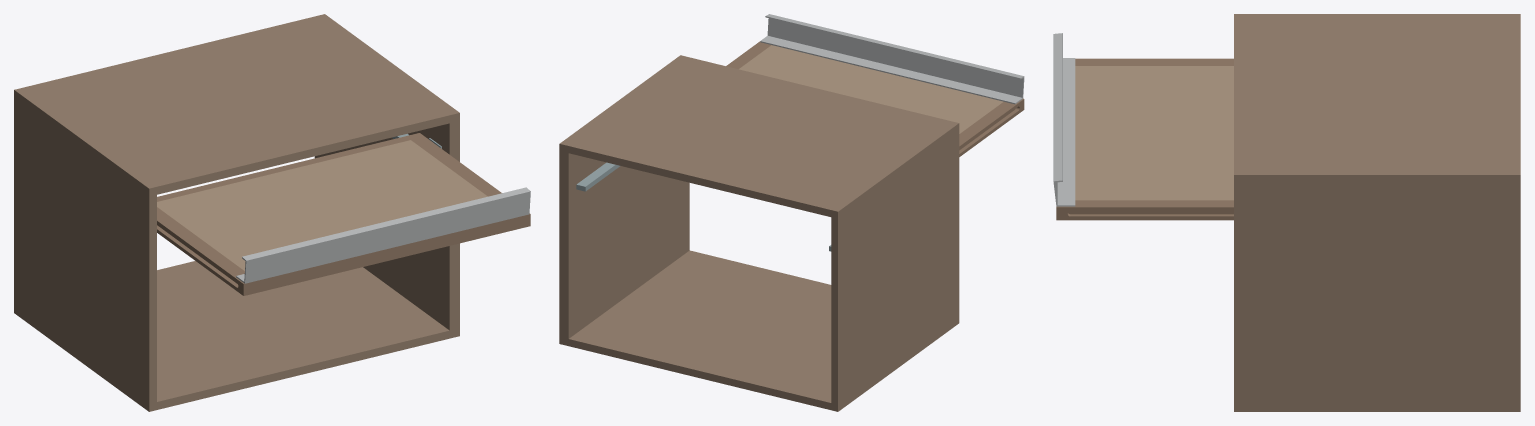
The model's file is mechanism-raised.glb.
The picture shows the model from 3 angles, left to right: view 1: azimuth 30°, elevation 25°; view 2: azimuth 150°, elevation 25°; view 3: azimuth 270°, elevation 25°; orthographic projection. The views are drawn at different scales.
Parts seen in each view (by area): view 1: Roof, Left-cheek, Sill, Plywood-infill-6, Display-ledge, Right-cheek, Bottom-rail, Stile-L, Top-rail, Stile-R; view 2: Roof, Sill, Left-cheek, Right-cheek, Display-ledge, Plywood-infill-6, Stile-L, Runner-R, Stile-R; view 3: Right-cheek, Roof, Plywood-infill-6, Display-ledge, Stile-R, Sill, Stile-L.
Boxes of the visible parts, x1=… form: Roof: x1=14, y1=14, x2=459, y2=196; Left-cheek: x1=14, y1=98, x2=156, y2=403; Sill: x1=14, y1=261, x2=459, y2=411; Plywood-infill-6: x1=157, y1=140, x2=487, y2=270; Display-ledge: x1=236, y1=187, x2=530, y2=283; Right-cheek: x1=314, y1=121, x2=459, y2=330; Bottom-rail: x1=257, y1=217, x2=516, y2=292; Stile-L: x1=157, y1=207, x2=257, y2=295; Top-rail: x1=157, y1=136, x2=410, y2=201; Stile-R: x1=406, y1=133, x2=530, y2=229; Roof: x1=559, y1=55, x2=959, y2=218; Sill: x1=559, y1=250, x2=959, y2=411; Left-cheek: x1=831, y1=130, x2=959, y2=404; Right-cheek: x1=559, y1=151, x2=689, y2=338; Display-ledge: x1=760, y1=14, x2=1024, y2=104; Plywood-infill-6: x1=739, y1=45, x2=1003, y2=133; Stile-L: x1=959, y1=98, x2=1024, y2=156; Runner-R: x1=576, y1=162, x2=619, y2=191; Stile-R: x1=726, y1=41, x2=771, y2=69; Right-cheek: x1=1234, y1=183, x2=1520, y2=403; Roof: x1=1234, y1=14, x2=1520, y2=183; Plywood-infill-6: x1=1075, y1=66, x2=1233, y2=200; Display-ledge: x1=1053, y1=33, x2=1075, y2=206; Stile-R: x1=1056, y1=200, x2=1233, y2=220; Sill: x1=1234, y1=403, x2=1520, y2=411; Stile-L: x1=1075, y1=58, x2=1233, y2=65.
Size of the model in its own units: 0.485 by 0.333 by 0.5948.
